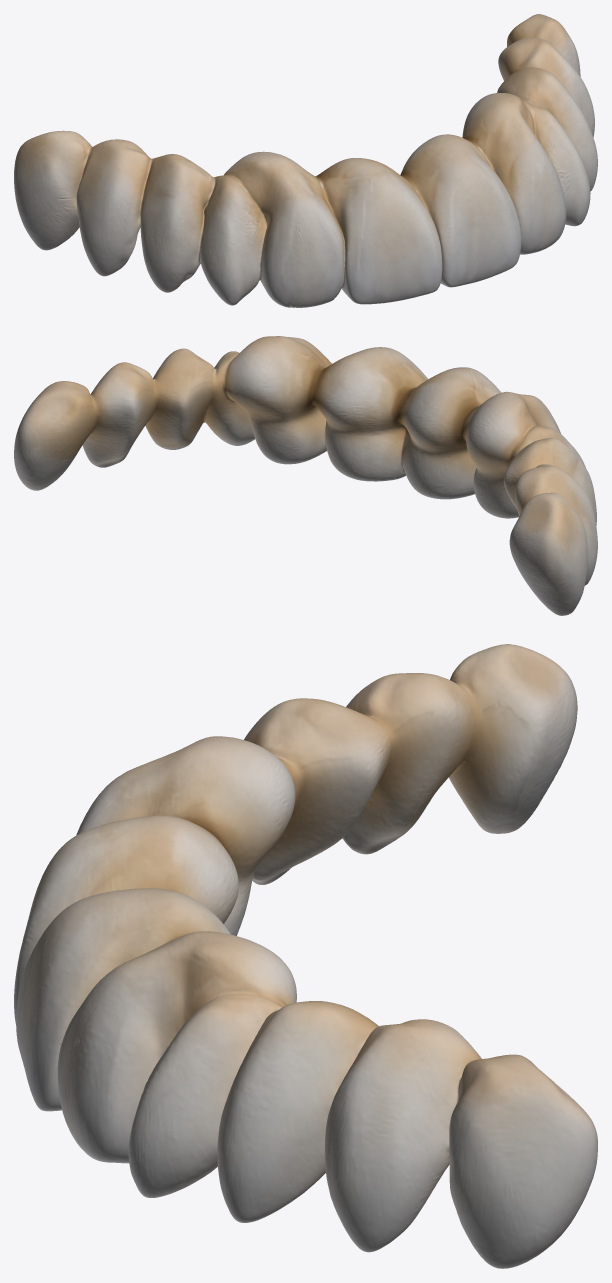
The model's file is base_basic_pbr.glb.
The picture shows the model from 3 angles, top to bottom: view 1: azimuth 30°, elevation 25°; view 2: azimuth 150°, elevation 25°; view 3: azimuth 270°, elevation 25°; orthographic projection. The views are drawn at different scales.
Visible parts, largest first — view 1: model; view 2: model; view 3: model.
Boxes of the visible parts, x1,y1,x2,y2 form: model: (14, 14, 597, 307); model: (14, 336, 597, 615); model: (14, 644, 597, 1268).
Bounding box in the file's own units: 1.9 × 0.4143 × 1.01.
1 material, 1 textured.
